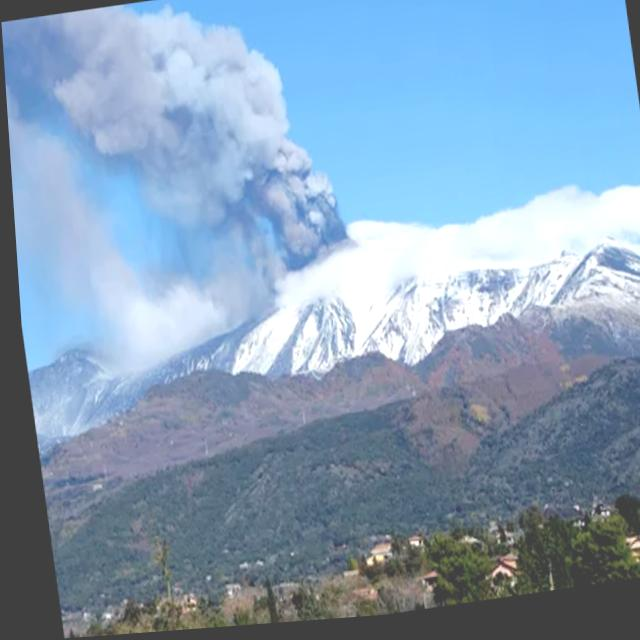Smoke: (0, 0, 355, 382)
